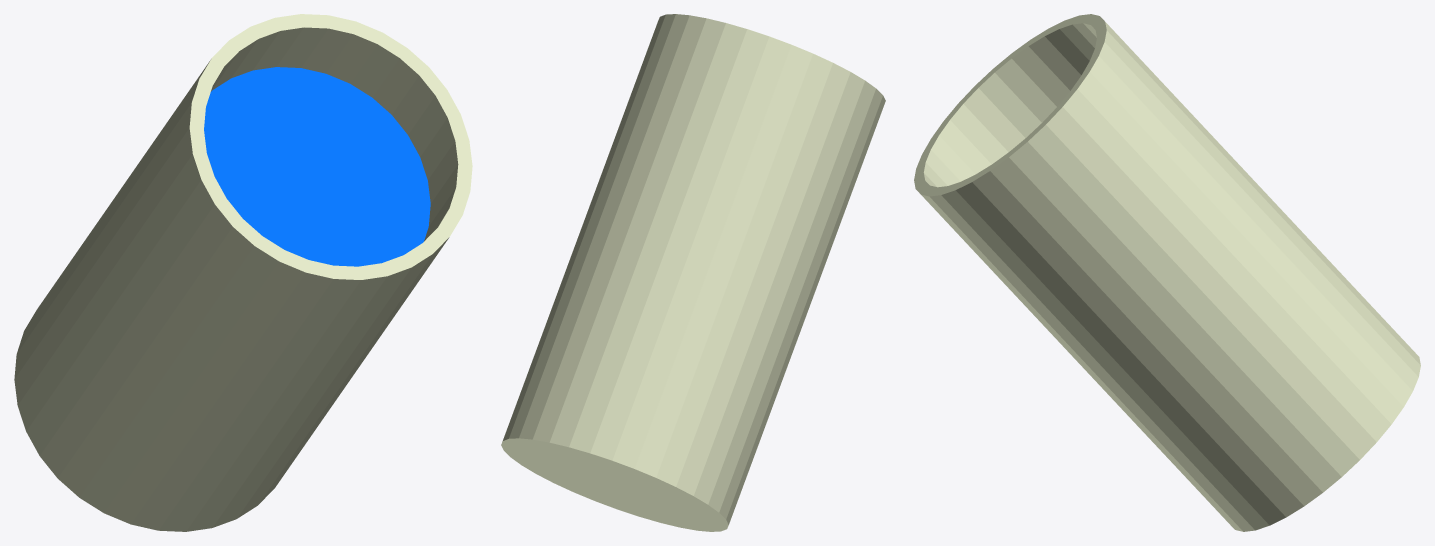
Rendered from cup.glb.
3 renders of one model, left to right at view 1: azimuth 30°, elevation 25°; view 2: azimuth 150°, elevation 25°; view 3: azimuth 270°, elevation 25°, orthographic. The views are drawn at different scales.
Visible parts, largest first — view 1: cup; view 2: cup; view 3: cup.
Boxes of the visible parts, box(x1,y1,x2,y2) form: cup: box(14, 14, 472, 531); cup: box(501, 14, 885, 531); cup: box(914, 14, 1420, 531).
Bounding box in the file's own units: 0.0778 × 0.1574 × 0.1501.
